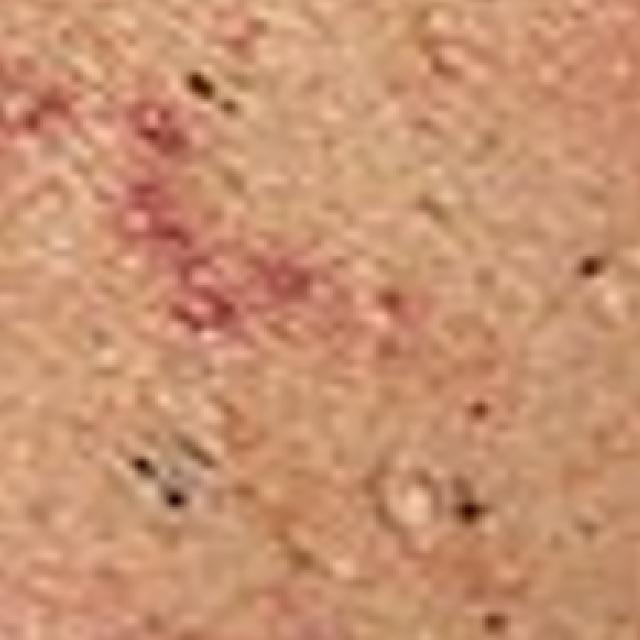blackhead: (185, 73, 215, 101), (581, 256, 597, 276), (485, 614, 504, 630), (470, 402, 487, 418), (461, 503, 478, 516), (168, 493, 183, 506), (220, 101, 235, 113), (133, 458, 148, 470)
